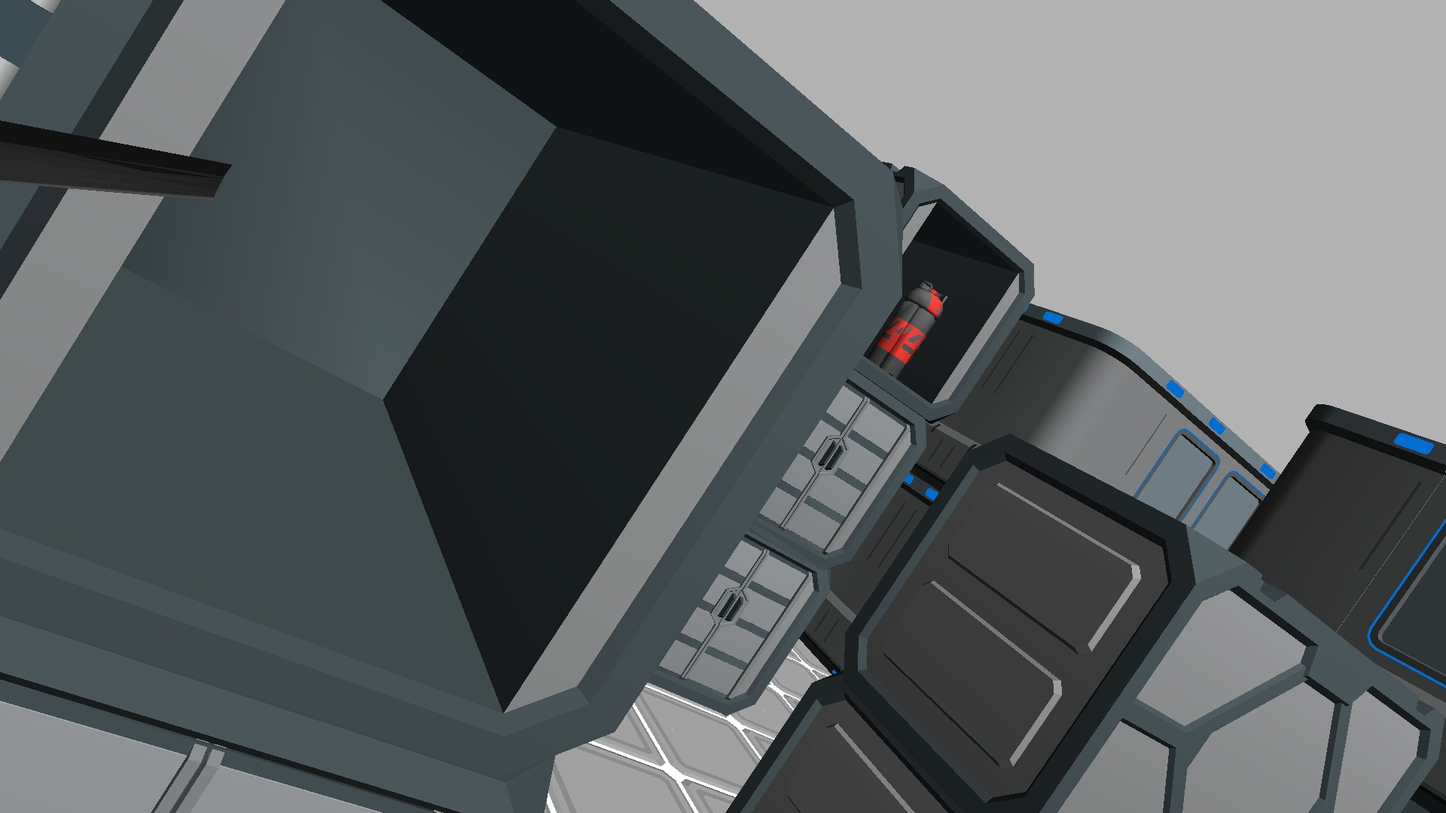red barrel: (863, 281, 947, 379)
